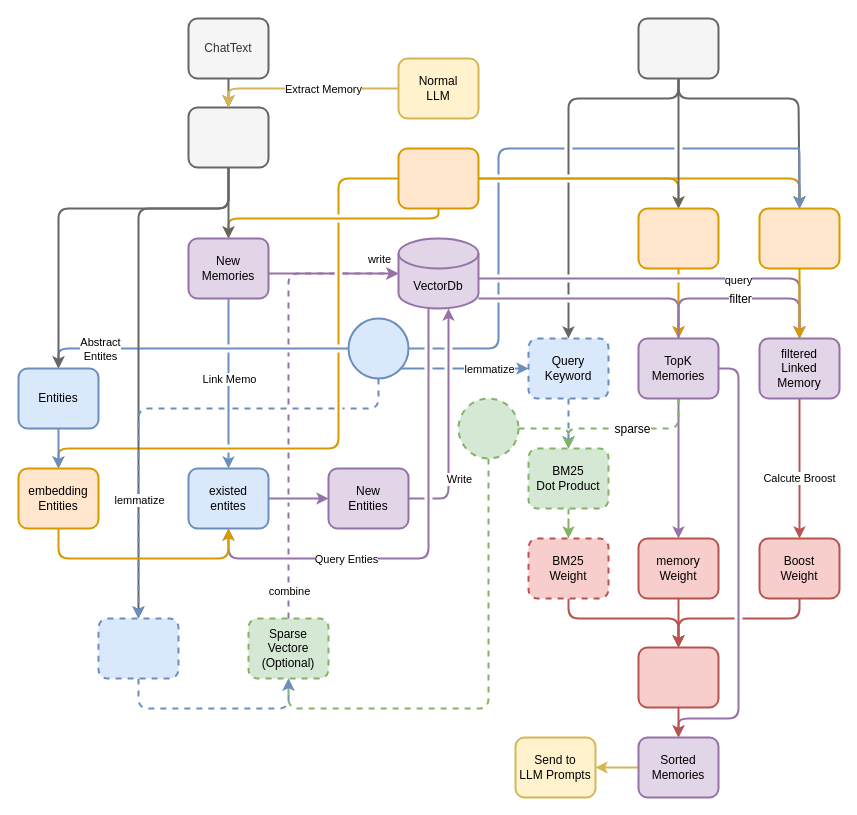
The diagram is 857 pixels wide and 815 high, and some of its shapes have lost their labels. Each missing label, with the box of its shape:
BM25 Algorithm: (457, 397, 519, 459)
Calcuted Weight: (637, 646, 719, 708)
Embedding LLM: (397, 147, 479, 209)
KeyWord (Optional): (97, 617, 179, 679)
Memory Text: (187, 106, 269, 168)
Query Embed Vector: (637, 207, 719, 269)
Query Entities Embed Vector: (758, 207, 840, 269)
QueryText: (637, 17, 719, 79)
spaCy Algorithm: (347, 317, 409, 379)
